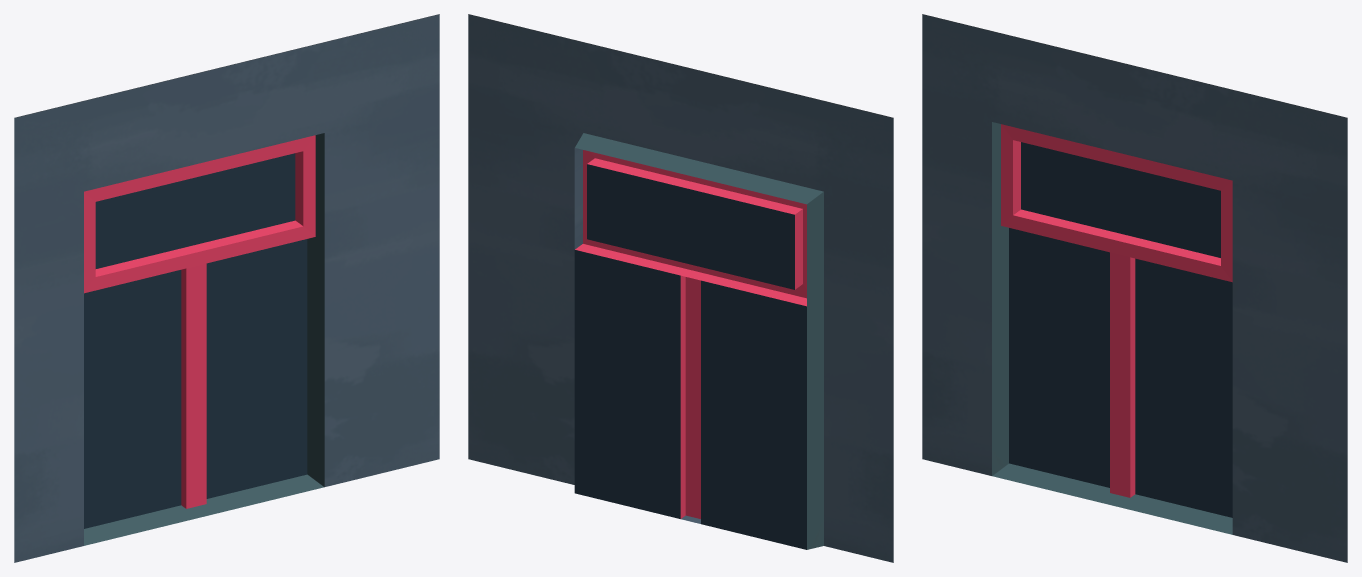
File: m_face_block_big_window.FBX
The picture shows the model from 3 angles, left to right: view 1: azimuth 30°, elevation 25°; view 2: azimuth 150°, elevation 25°; view 3: azimuth 330°, elevation 25°; orthographic projection.
Visible parts, largest first — view 1: face_block_big_window; view 2: face_block_big_window; view 3: face_block_big_window.
Part boxes in pixels (bbox=[...]): face_block_big_window: bbox=[14, 14, 439, 562]; face_block_big_window: bbox=[468, 14, 893, 562]; face_block_big_window: bbox=[922, 14, 1347, 562].
Bounding box in the file's own units: 100 × 100 × 5.24.
